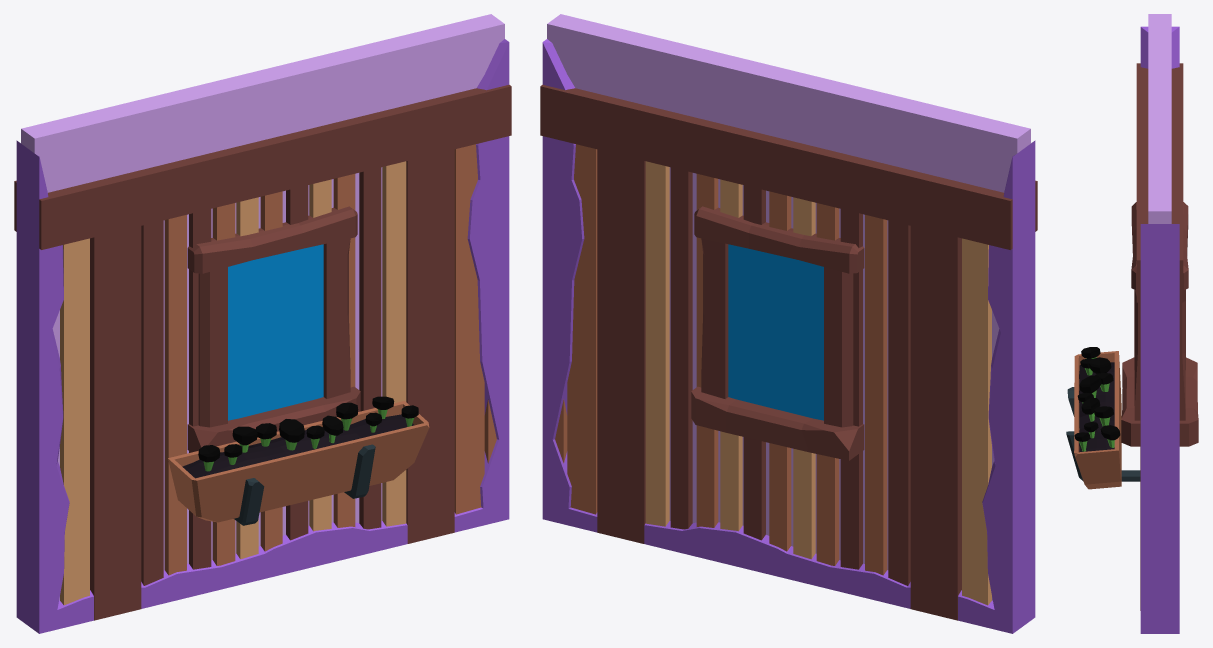
The model's file is Modular Wall 05 MK2 W3.fbx.
3 renders of one model, left to right at view 1: azimuth 30°, elevation 25°; view 2: azimuth 150°, elevation 25°; view 3: azimuth 270°, elevation 25°, orthographic. The views are drawn at different scales.
Visible parts, largest first — view 1: Modular Wall 05 MK2 W3; view 2: Modular Wall 05 MK2 W3; view 3: Modular Wall 05 MK2 W3.
Boxes of the visible parts, x1=… form: Modular Wall 05 MK2 W3: x1=14, y1=14, x2=511, y2=633; Modular Wall 05 MK2 W3: x1=540, y1=14, x2=1037, y2=633; Modular Wall 05 MK2 W3: x1=1066, y1=14, x2=1198, y2=633.
Bounding box in the file's own units: 400 × 400 × 113.
